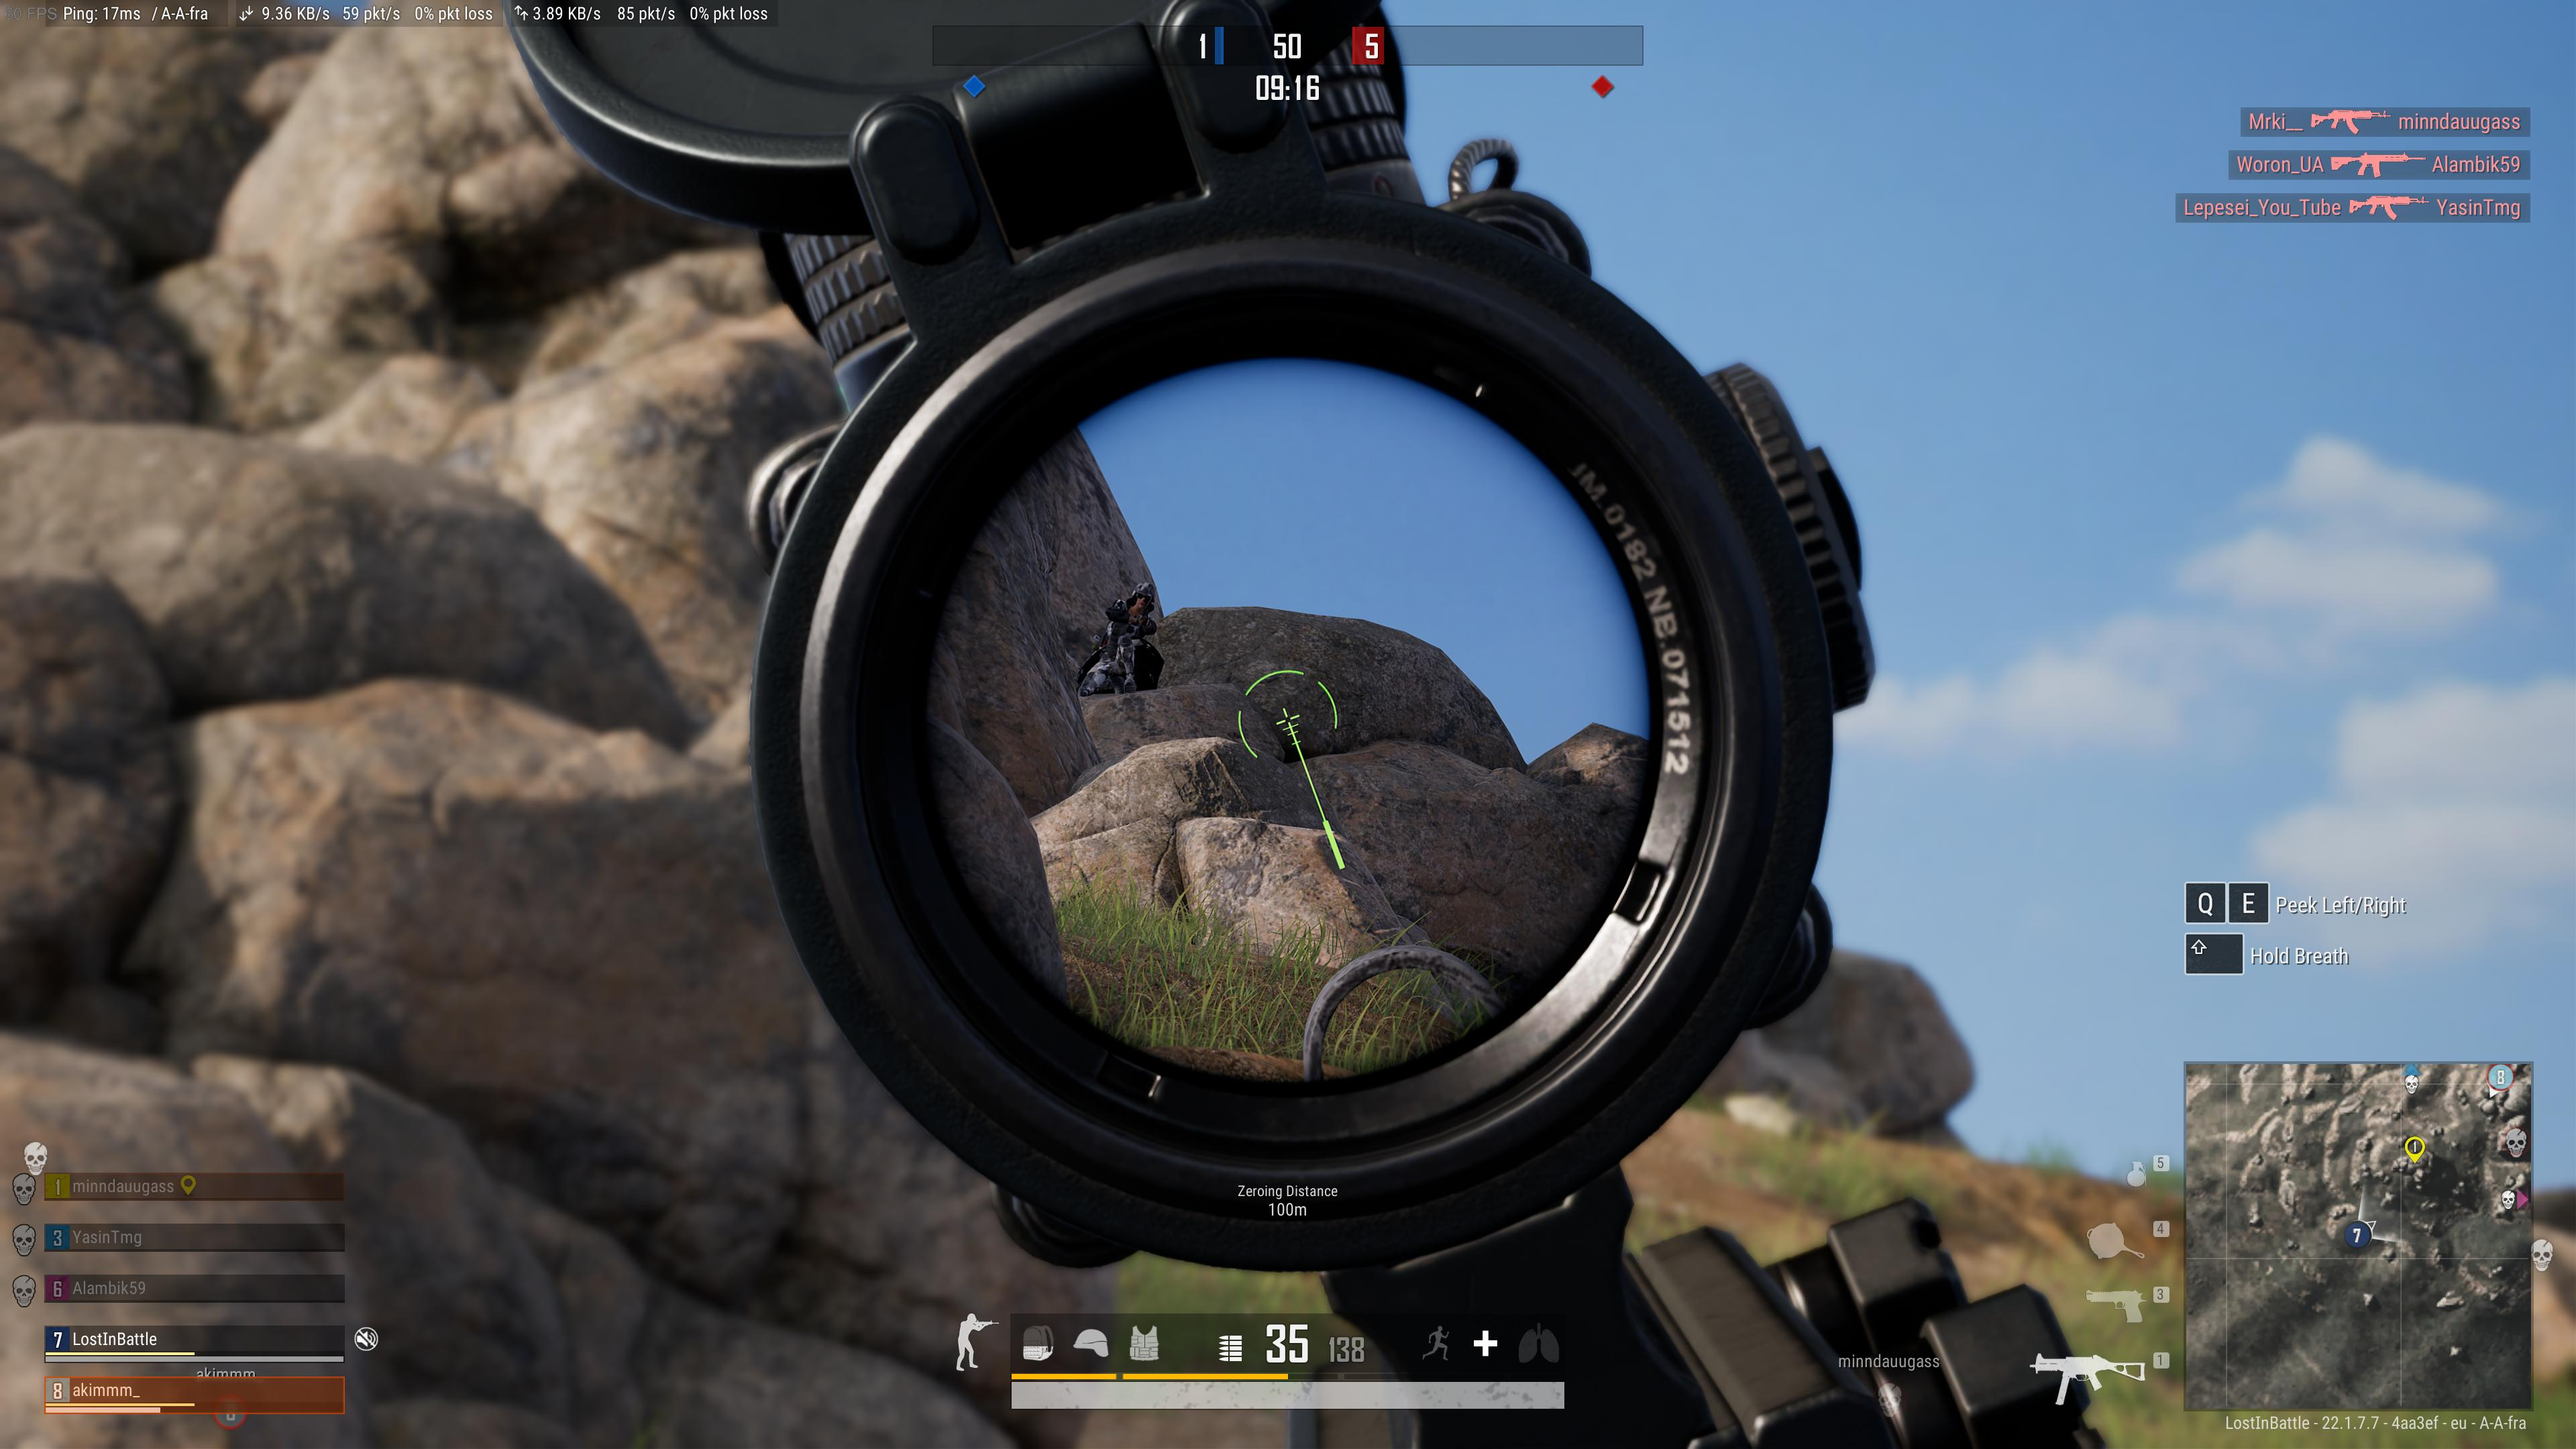enemy: (1077, 580, 1159, 697)
enemy_head: (1131, 580, 1155, 614)
